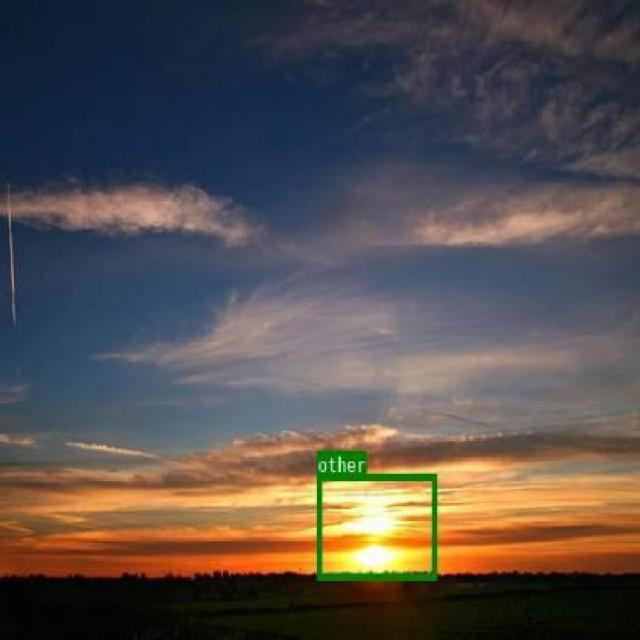other: (316, 472, 436, 578)
